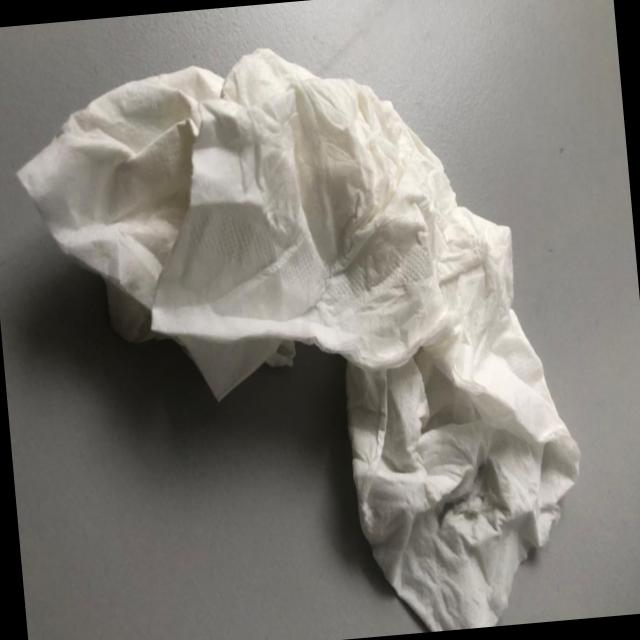organic waste: (4, 24, 602, 640)
